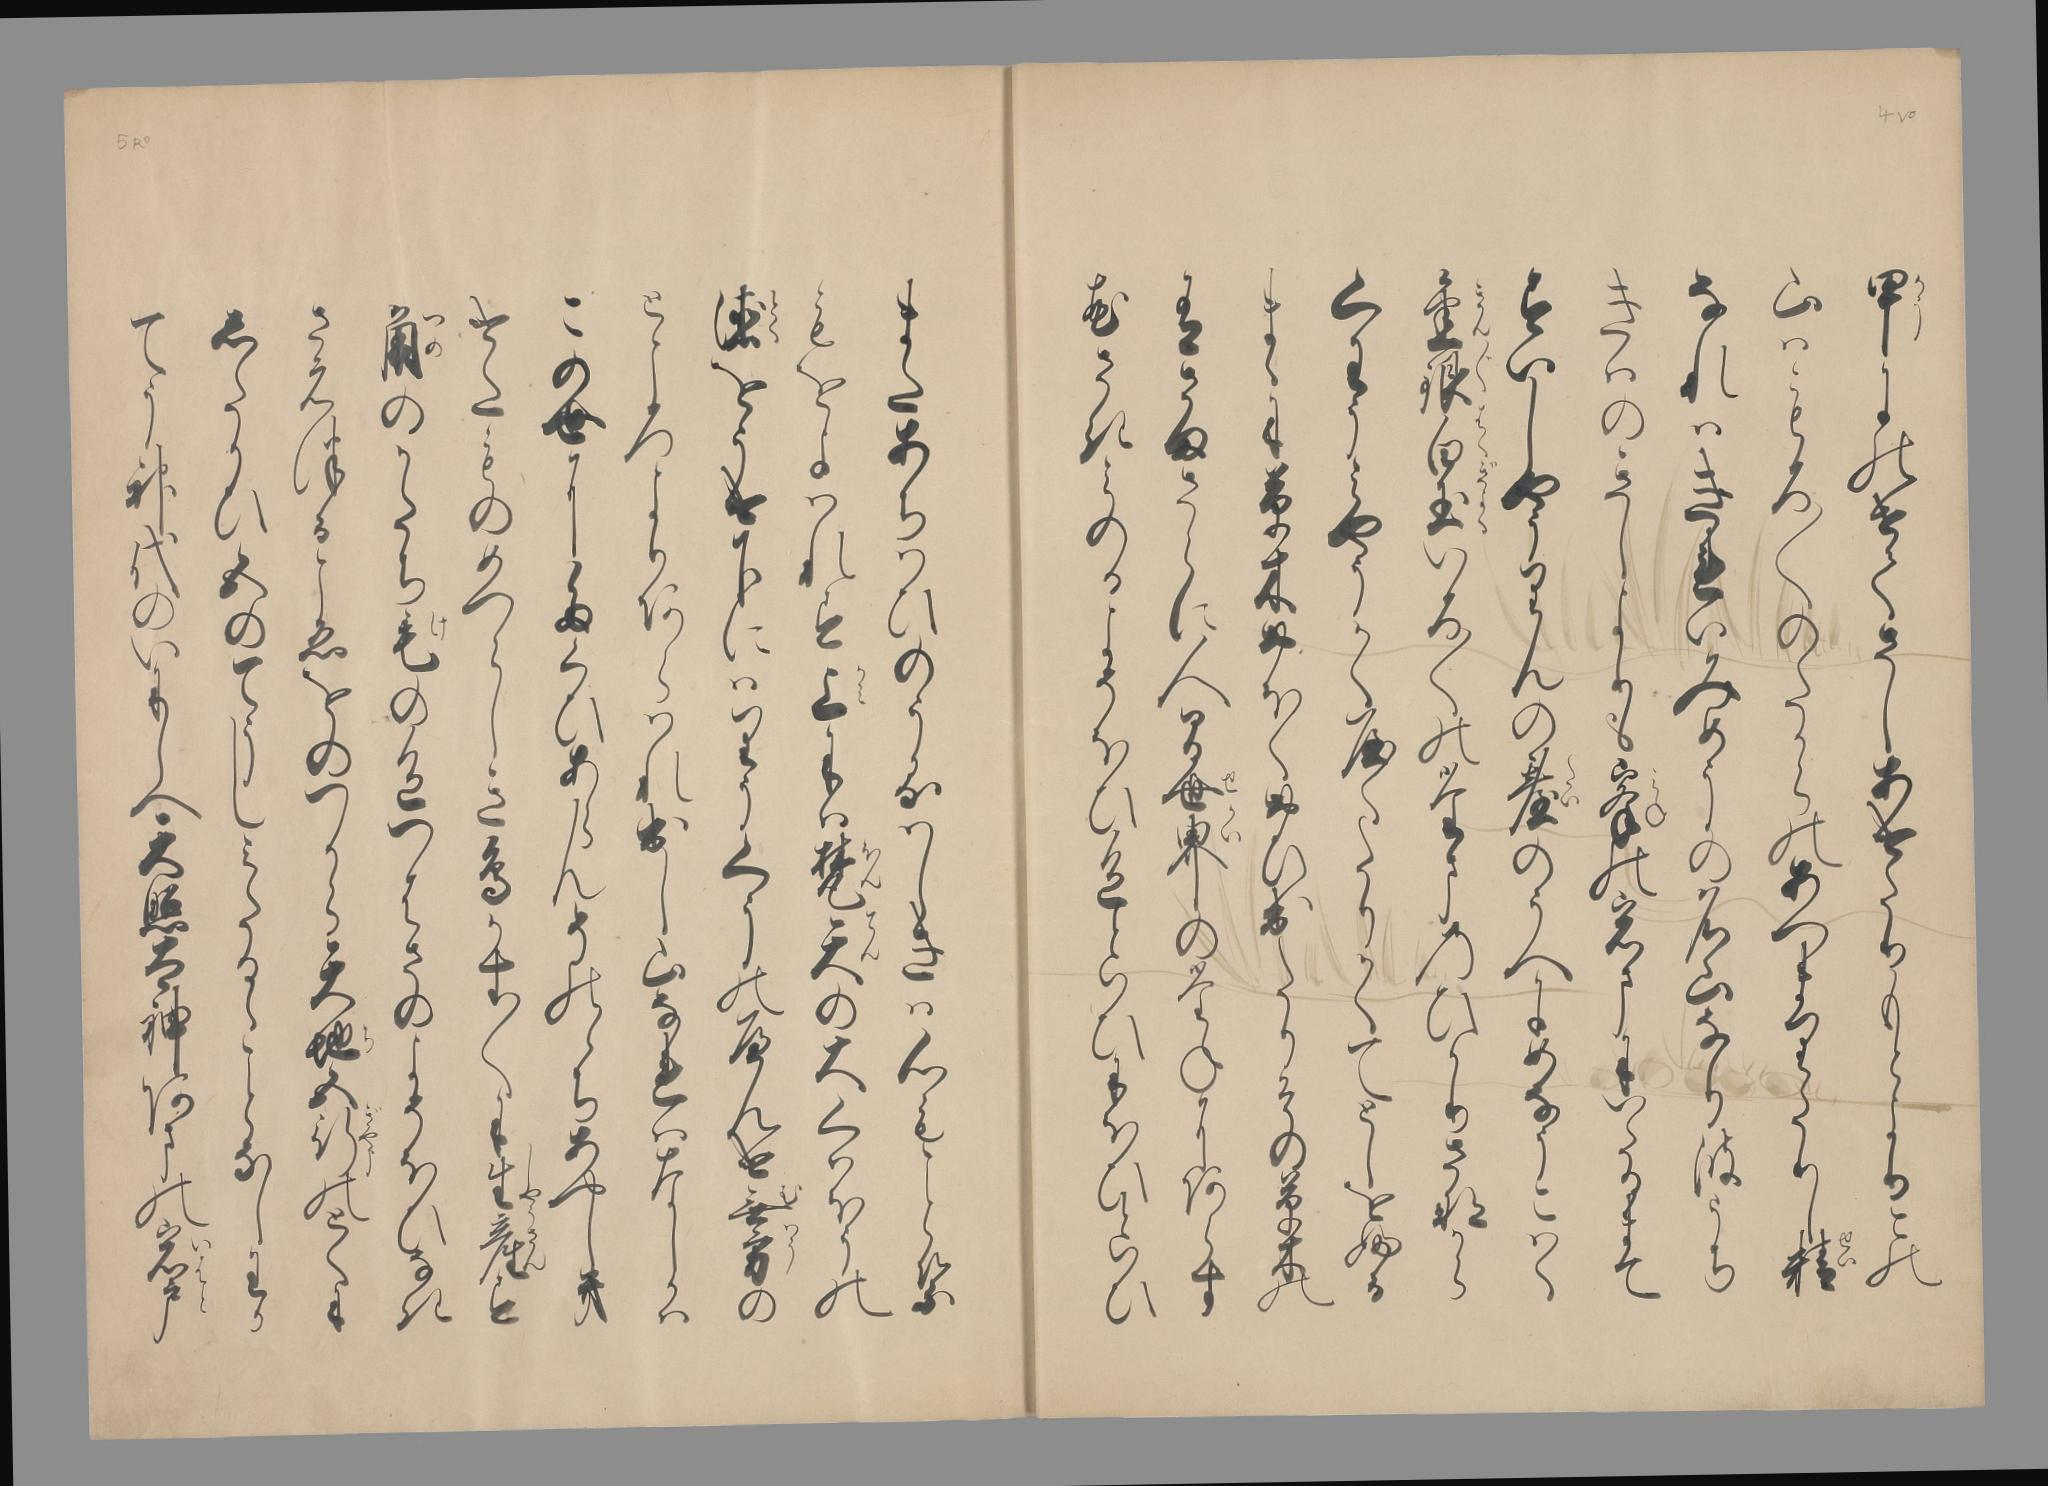MainZone-Character: (1415, 262, 1499, 353), (696, 277, 795, 351), (1172, 806, 1250, 896), (1595, 761, 1676, 847), (143, 1257, 223, 1343), (800, 912, 887, 990), (1859, 261, 1934, 351), (1509, 752, 1585, 834), (1423, 461, 1501, 540), (372, 302, 447, 381), (305, 1101, 385, 1176), (1415, 343, 1498, 415), (475, 1213, 550, 1289), (808, 834, 884, 909), (1776, 1227, 1859, 1295), (1422, 407, 1499, 475), (735, 1221, 805, 1291), (1161, 760, 1250, 809), (393, 610, 455, 677), (302, 1016, 378, 1068), (805, 661, 873, 718), (482, 1149, 541, 1214), (725, 1182, 808, 1225), (142, 1235, 216, 1275)
MainZone-Ruby: (1474, 461, 1499, 537), (358, 1101, 385, 1171), (1643, 766, 1671, 830), (1464, 275, 1493, 339), (417, 305, 447, 362), (1905, 270, 1929, 342), (1557, 750, 1579, 811), (859, 838, 884, 890), (522, 1216, 545, 1271), (859, 907, 881, 966), (194, 1257, 216, 1316), (1474, 343, 1498, 397), (518, 1151, 541, 1208), (1213, 803, 1245, 842), (781, 1222, 805, 1273), (763, 288, 784, 343), (1472, 407, 1493, 458), (1835, 1229, 1859, 1271), (1216, 766, 1243, 798), (852, 661, 870, 707), (355, 1019, 375, 1055), (428, 612, 450, 640), (781, 1182, 806, 1206), (188, 1235, 215, 1256)
